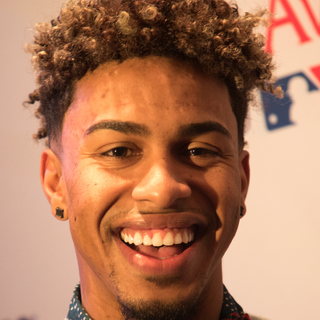eye: (173, 139, 226, 165), (96, 141, 146, 164)
